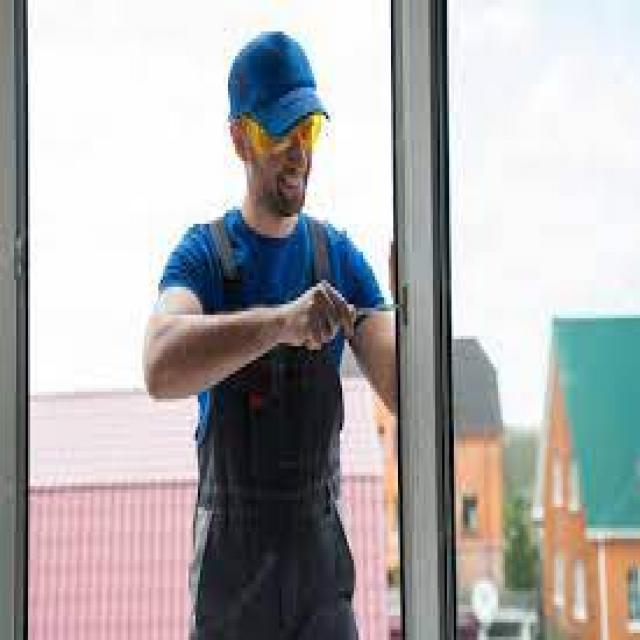screwdriver: (304, 280, 416, 343)
